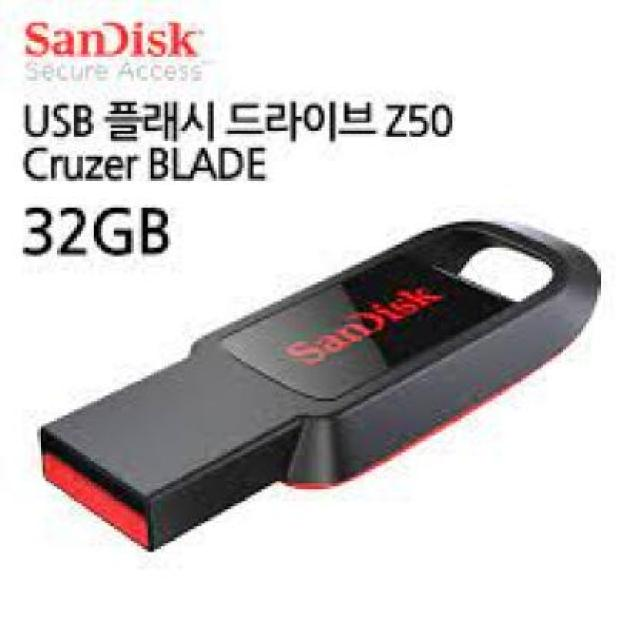Flashdisk: (37, 217, 603, 554)
